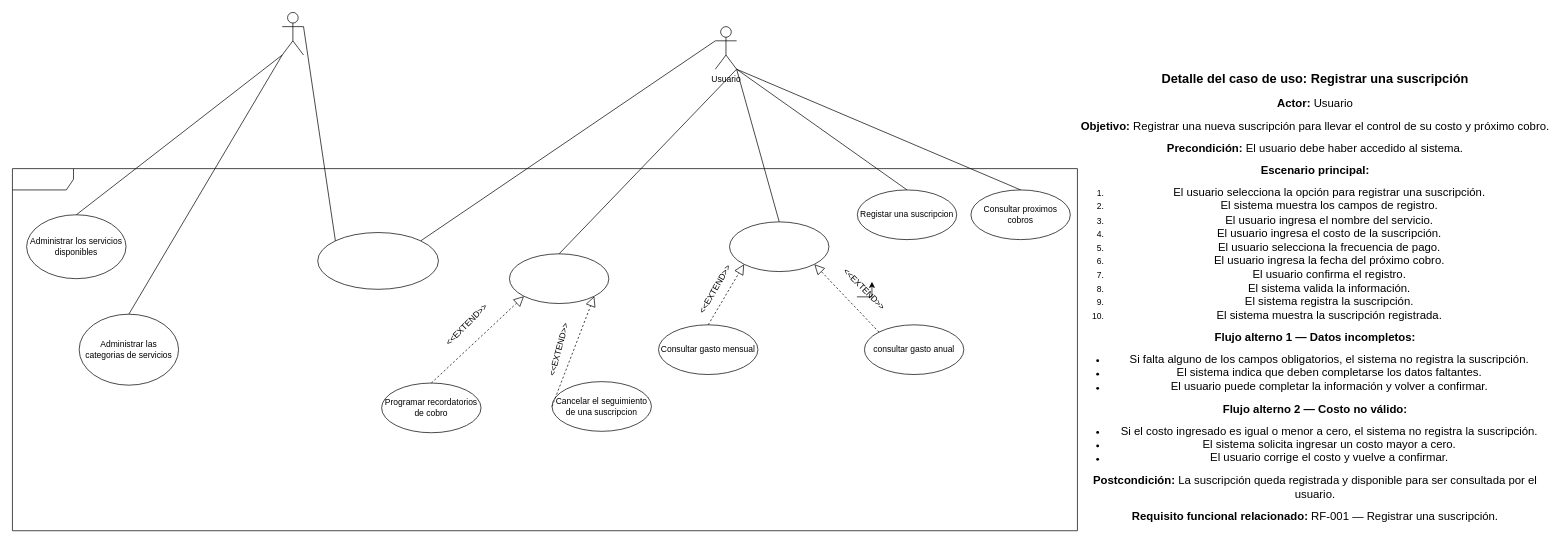
The diagram is 1566 pixels wide and 543 high, and some of its shapes have lost their labels. Here are the shapes that lost their labels. From the top down, the box of each, then its label:
(282, 12, 304, 55): Administrador
(317, 232, 438, 289): Acceder al sistema
(729, 221, 829, 272): Consultar sus gastos en suscripciones
(509, 253, 609, 304): Consultar Suscripciones
(12, 168, 1077, 531): SubTrack
